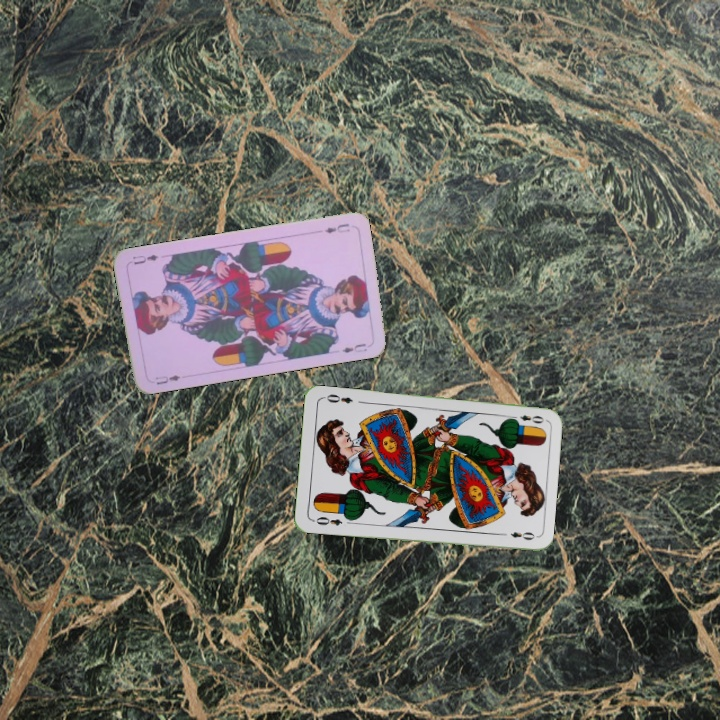EO: (506, 411, 546, 426), (309, 512, 345, 528)
EU: (321, 219, 352, 236), (152, 371, 183, 387)
